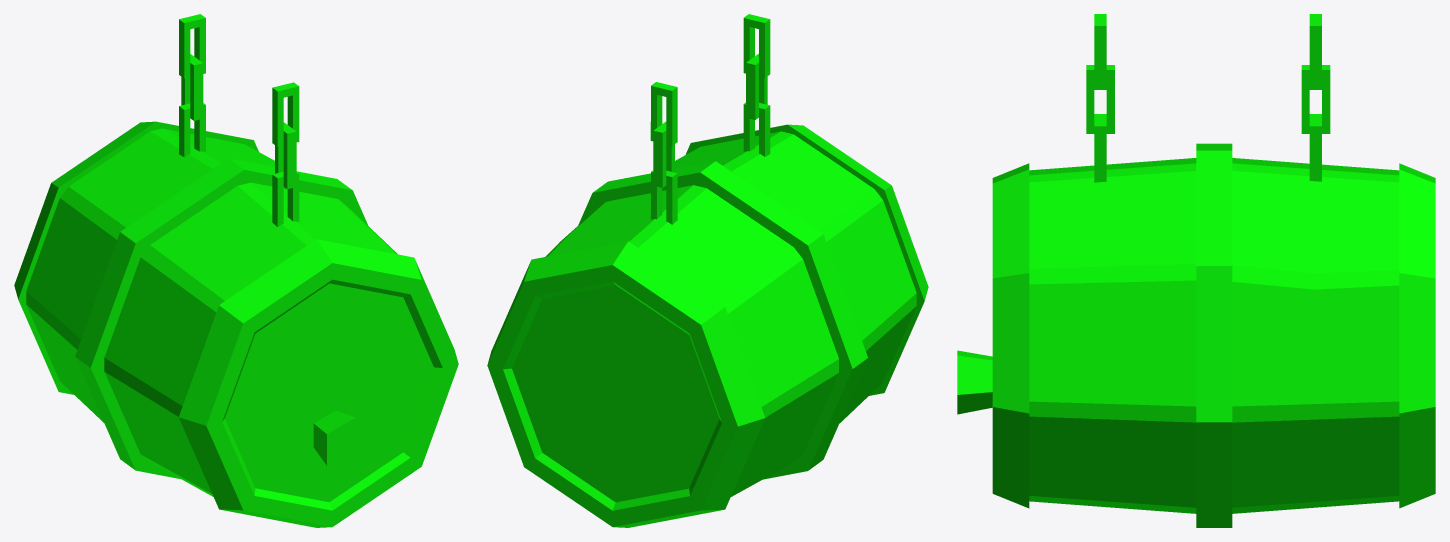
The model's file is SM_Signboard_Pub_C_Fantasy.fbx.
3 views of the same model, side by side, from view 1: azimuth 30°, elevation 25°; view 2: azimuth 150°, elevation 25°; view 3: azimuth 270°, elevation 25° (orthographic). The views are drawn at different scales.
Parts seen in each view (by area): view 1: singboard-pub-c-fantasy; view 2: singboard-pub-c-fantasy; view 3: singboard-pub-c-fantasy.
Part boxes in pixels (x1,y1,x2,y2): singboard-pub-c-fantasy: [14, 14, 458, 527]; singboard-pub-c-fantasy: [487, 14, 928, 527]; singboard-pub-c-fantasy: [957, 14, 1435, 527].
Size of the model in its own units: 0.9529 by 1.29 by 1.12.
